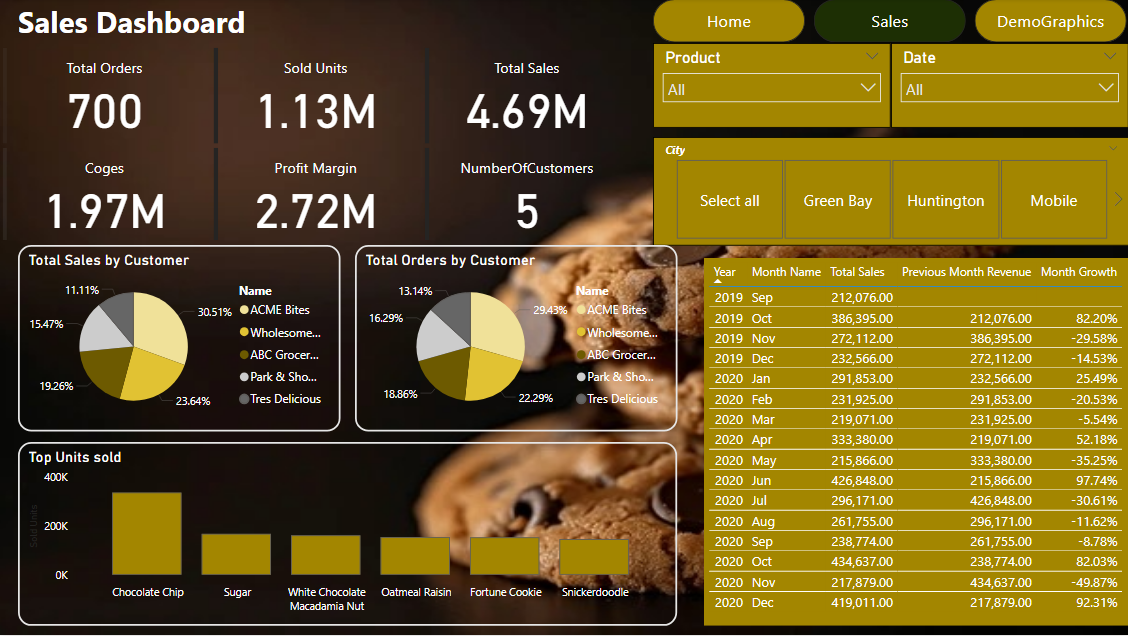

This screenshot's page, from the dashboard's own definition file:
{"tool":"powerbi","page":{"name":"Sales","canvas":[1280,720],"ordinal":1},"visuals":[{"type":"cardVisual","fields":{"Data":["_Measures.Total Orders","_Measures.Sold Units","_Measures.Total Sales"]},"box":[0,49.9,720.8,119.9],"z":0},{"type":"cardVisual","fields":{"Data":["_Measures.Coges","_Measures.Profit Margin","_Measures.NumberOfCustomers"]},"box":[0,163,720.8,115.9],"z":1000},{"type":"slicer","fields":{"Values":["Cookie type.Cookie Type"]},"box":[741.1,49.9,269.5,95.7],"z":2000},{"type":"slicer","fields":{"Values":["Date.Year","Date.Month Name"]},"box":[1010.5,49.9,269.5,95.7],"z":3000},{"type":"slicer","fields":{"Values":["Customers.City"]},"box":[741.1,156.3,538.9,122.6],"z":4000},{"type":"pieChart","title":"Total Sales by Customer","fields":{"Category":["Customers.Name"],"Y":["_Measures.Total Sales"]},"box":[22.7,278.7,364.7,210.7],"z":5000},{"type":"pieChart","title":"Total Orders by Customer","fields":{"Category":["Customers.Name"],"Y":["_Measures.Total Orders"]},"box":[404.4,278.7,364.7,210.7],"z":6000},{"type":"tableEx","fields":{"Values":["Date.Year","Date.Month Name","_Measures.Total Sales","_Measures.Previus Month Revenue","_Measures.Month Growth"]},"box":[798.6,293.4,481.4,415.7],"z":7000},{"type":"columnChart","title":"Top Units sold","fields":{"Category":["Cookie type.Cookie Type"],"Y":["_Measures.Sold Units"]},"box":[23.1,501.1,746.2,208.3],"z":8000},{"type":"pageNavigator","box":[741.1,0,538.9,49.9],"z":9000},{"type":"shape","box":[22.6,0,267.1,49.8],"z":10000}]}

Visuals, with their boxes in screenshot pixels (x1, y1, x2, y2), scaled from the page's 1280x720 canvas onto the 1128x636 screenshot:
cardVisual - _Measures.Total Orders x _Measures.Sold Units: (0, 44, 635, 150)
cardVisual - _Measures.Coges x _Measures.Profit Margin: (0, 144, 635, 246)
slicer - Cookie type.Cookie Type: (653, 44, 891, 129)
slicer - Date.Year x Date.Month Name: (891, 44, 1127, 129)
slicer - Customers.City: (653, 138, 1127, 246)
"Total Sales by Customer" pieChart: (20, 246, 341, 432)
"Total Orders by Customer" pieChart: (356, 246, 678, 432)
tableEx - Date.Year x Date.Month Name: (704, 259, 1127, 626)
"Top Units sold" columnChart: (20, 443, 678, 627)
pageNavigator: (653, 0, 1127, 44)
shape: (20, 0, 255, 44)
